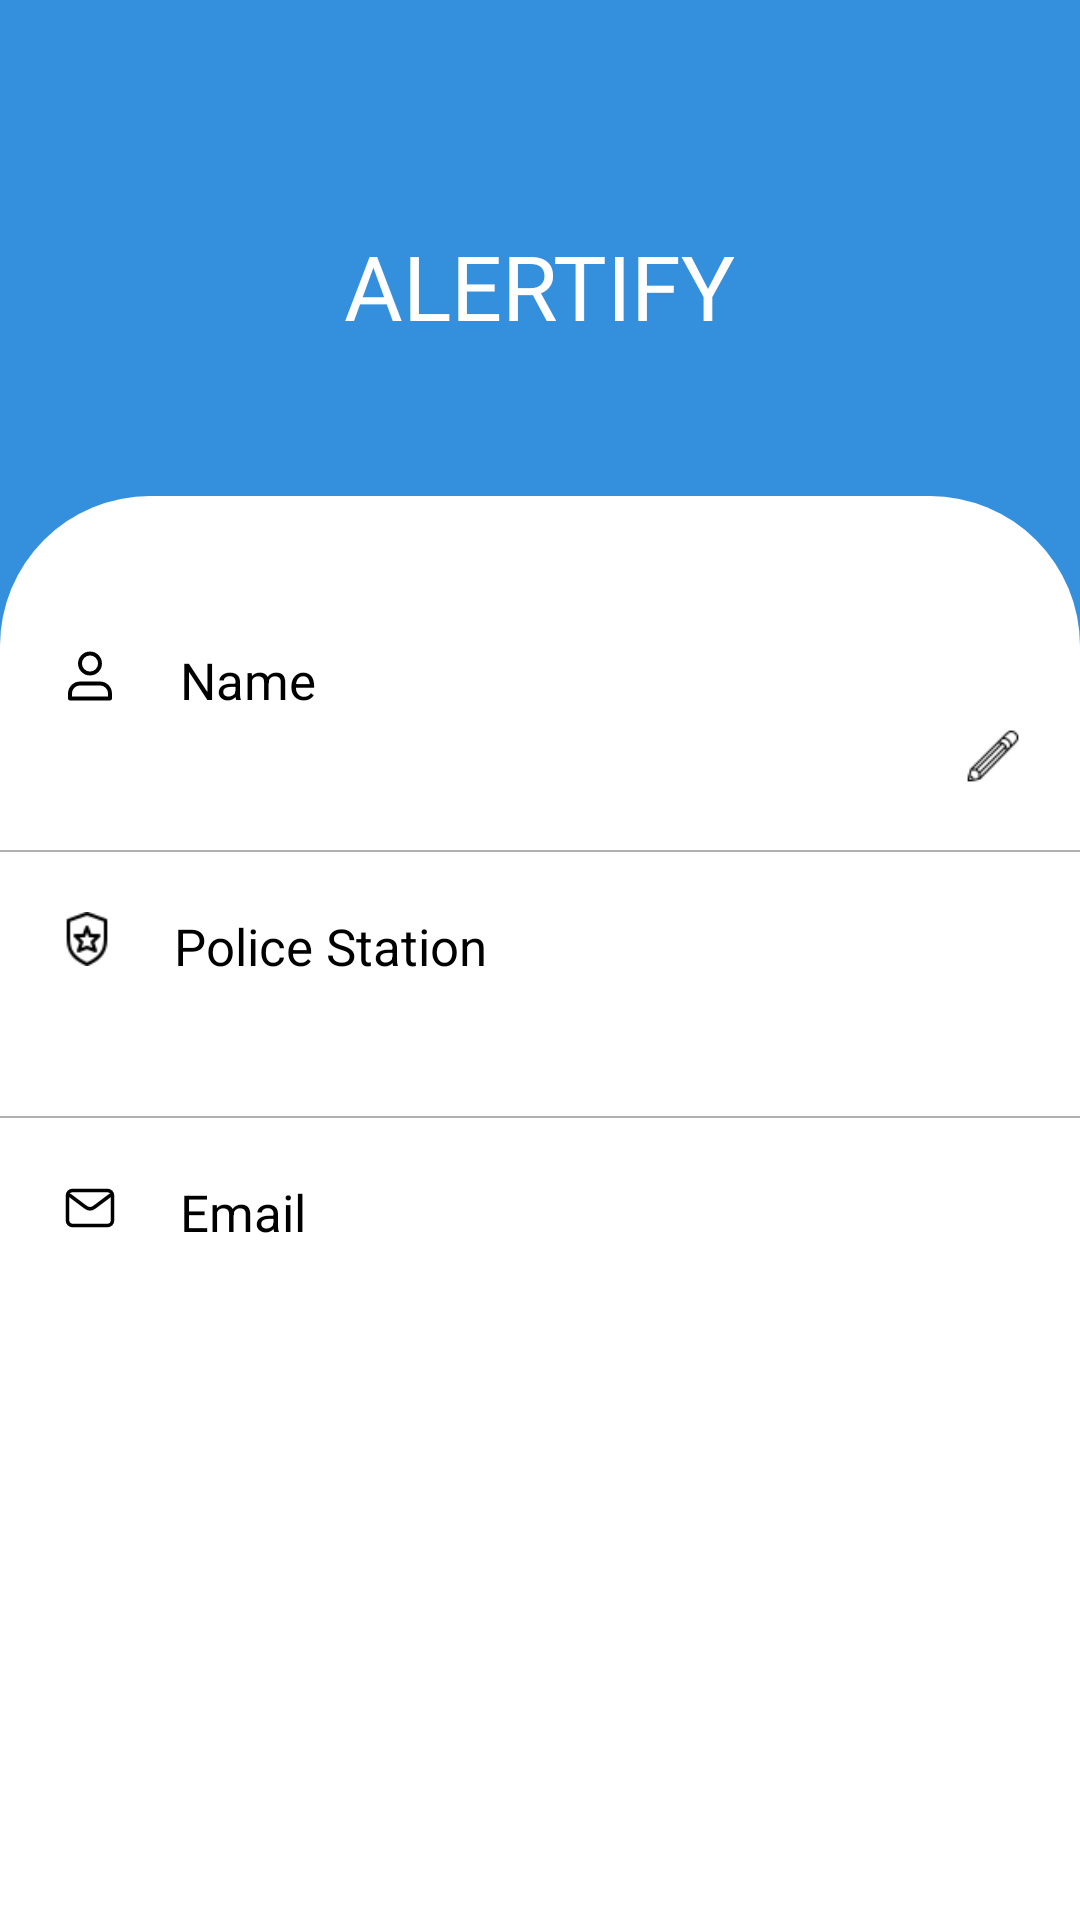

Named icons in this screenshot (1080×1920) and their bounding boxes, (x1, y1, x2, y2):
pencil: (967, 730, 1019, 782)
user: (68, 651, 112, 701)
